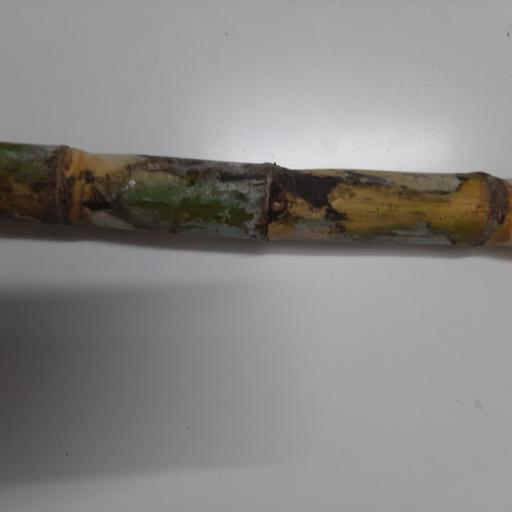Bud: (269, 194, 288, 217)
